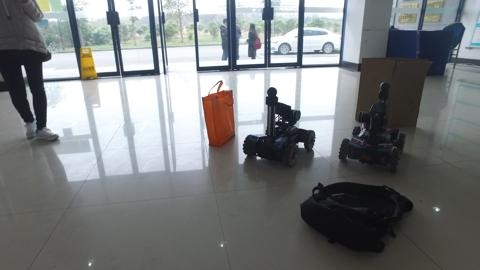bag: (199, 82, 235, 147)
chariot: (338, 84, 406, 171), (246, 89, 316, 166)
